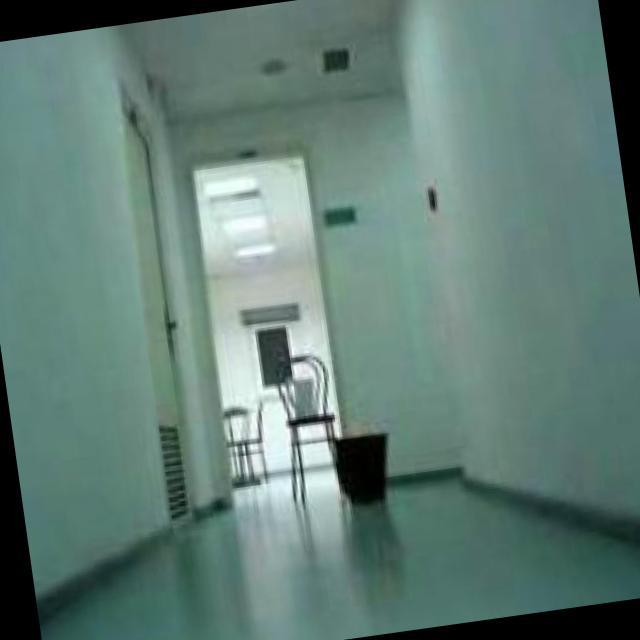Fire: (329, 426, 349, 446)
